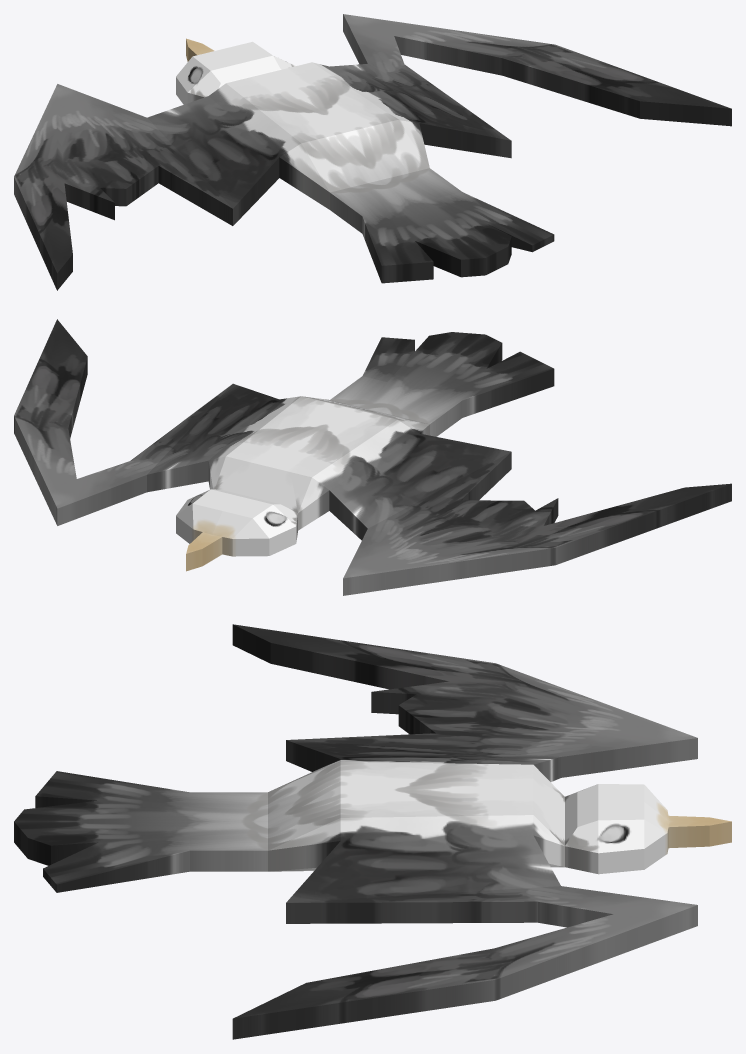
File: Seagull05.fbx
3 renders of one model, top to bottom at view 1: azimuth 30°, elevation 25°; view 2: azimuth 150°, elevation 25°; view 3: azimuth 270°, elevation 25°, orthographic. The views are drawn at different scales.
Visible parts, largest first — view 1: Seagull05; view 2: Seagull05; view 3: Seagull05.
Boxes of the visible parts, x1,y1,x2,y2 form: Seagull05: [14, 14, 731, 290]; Seagull05: [14, 319, 731, 595]; Seagull05: [14, 624, 731, 1039].
Bounding box in the file's own units: 0.2924 × 0.0182 × 0.2249.
1 material, 1 textured.
